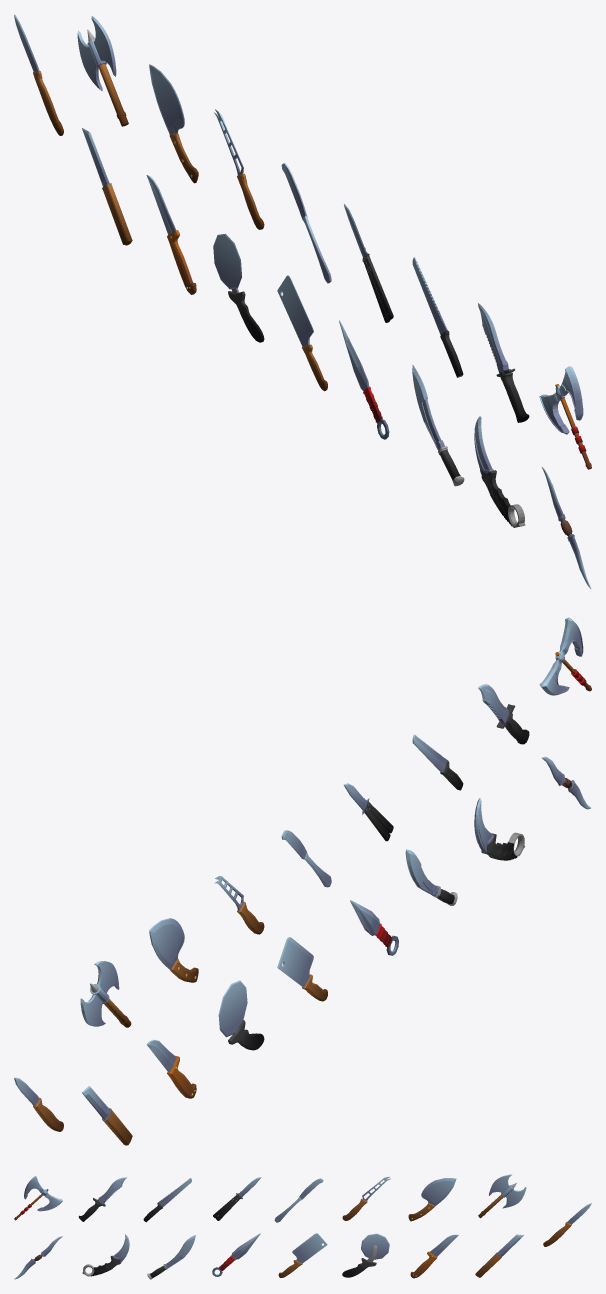
Rendered from Knifes.fbx.
The picture shows the model from 3 angles, top to bottom: view 1: azimuth 30°, elevation 25°; view 2: azimuth 150°, elevation 25°; view 3: azimuth 270°, elevation 25°; orthographic projection. The views are drawn at different scales.
Visible parts, largest first — view 1: TamohawkSharpKnife, AxeKnifeSharpKnife, FishKnifeSharpPart, PizzaKnifeSharpPart, MeatKnifeSharpPart, KerambitKnife, KukriKnifeSharpKnife; view 2: TamohawkSharpKnife, FishKnifeSharpPart, AxeKnifeSharpKnife, PizzaKnifeSharpPart, MeatKnifeSharpPart, KerambitKnife; view 3: FishKnifeSharpPart, TamohawkSharpKnife, PizzaKnifeSharpPart, MeatKnifeSharpPart, AxeKnifeSharpKnife, PizzaKnife, KerambitKnife, KukriKnifeSharpKnife, BoyuKnifeSharpPart, KunaiKnifeSharpPart, ShefKnife, ButterflyHandleR (+13 smaller).
Boxes of the visible parts, <box> form: TamohawkSharpKnife: <box>77,16,116,90</box>; AxeKnifeSharpKnife: <box>539,366,583,434</box>; FishKnifeSharpPart: <box>149,64,184,134</box>; PizzaKnifeSharpPart: <box>213,234,241,289</box>; MeatKnifeSharpPart: <box>277,275,313,346</box>; KerambitKnife: <box>481,470,525,527</box>; KukriKnifeSharpKnife: <box>412,365,444,450</box>; TamohawkSharpKnife: <box>80,961,119,1026</box>; FishKnifeSharpPart: <box>149,918,184,969</box>; AxeKnifeSharpKnife: <box>539,617,583,695</box>; PizzaKnifeSharpPart: <box>218,980,247,1037</box>; MeatKnifeSharpPart: <box>277,937,313,987</box>; KerambitKnife: <box>481,832,524,860</box>; FishKnifeSharpPart: <box>421,1178,456,1206</box>; TamohawkSharpKnife: <box>489,1174,526,1208</box>; PizzaKnifeSharpPart: <box>361,1233,389,1259</box>; MeatKnifeSharpPart: <box>292,1233,327,1263</box>; AxeKnifeSharpKnife: <box>24,1176,62,1211</box>; PizzaKnife: <box>342,1245,377,1277</box>; KerambitKnife: <box>82,1255,121,1276</box>; KukriKnifeSharpKnife: <box>165,1235,195,1268</box>; BoyuKnifeSharpPart: <box>98,1177,127,1204</box>; KunaiKnifeSharpPart: <box>231,1233,260,1259</box>; ShefKnife: <box>410,1251,437,1278</box>; ButterflyHandleR: <box>213,1194,241,1220</box>.
Bounding box in the file's own units: 56.54 × 705 × 3516.
